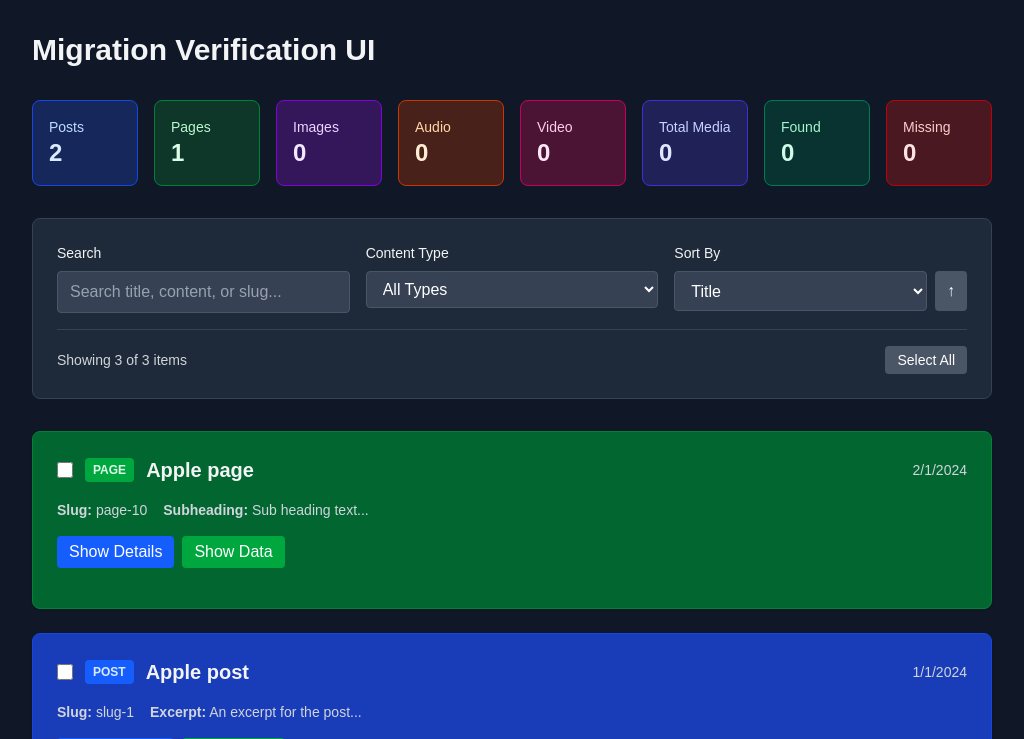
VerifyMigrationUI — search, filter and sort › filters by search term against title, slug and content
The image size is (1024, 739).
Expected: the heading "Apple post" is shown, [146,661,249,683]
In the field labelled "Search": (203, 292) [57,271,350,313], type "banana"
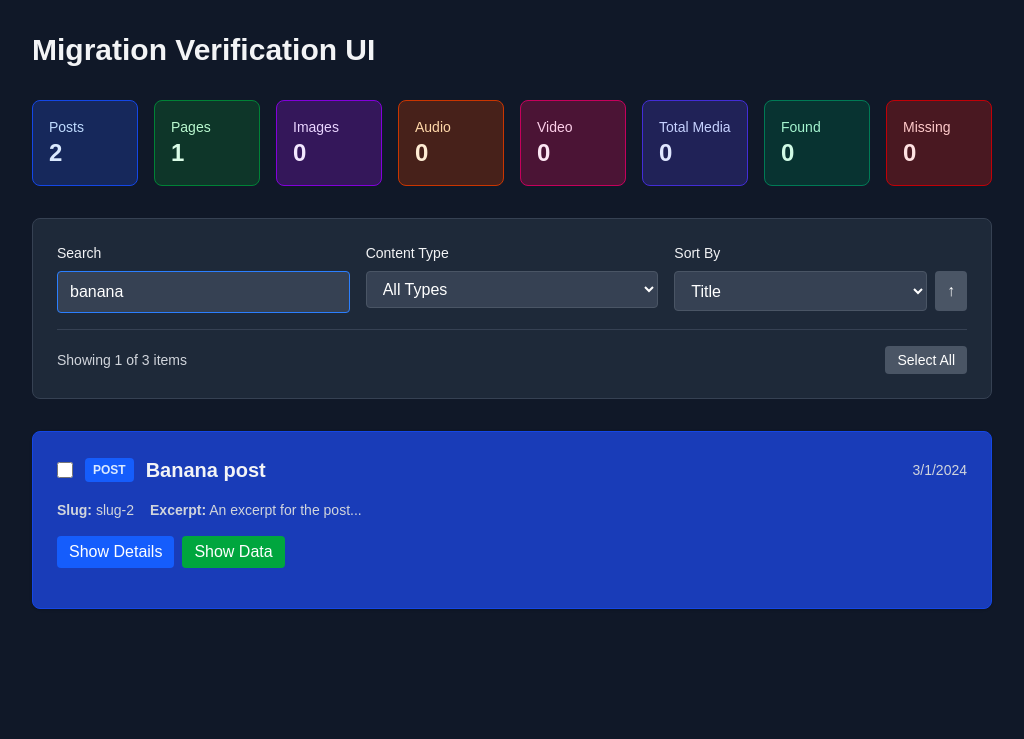
Now the heading "Apple post" is gone
Now the heading "Banana post" is shown, box [146,459,266,481]
